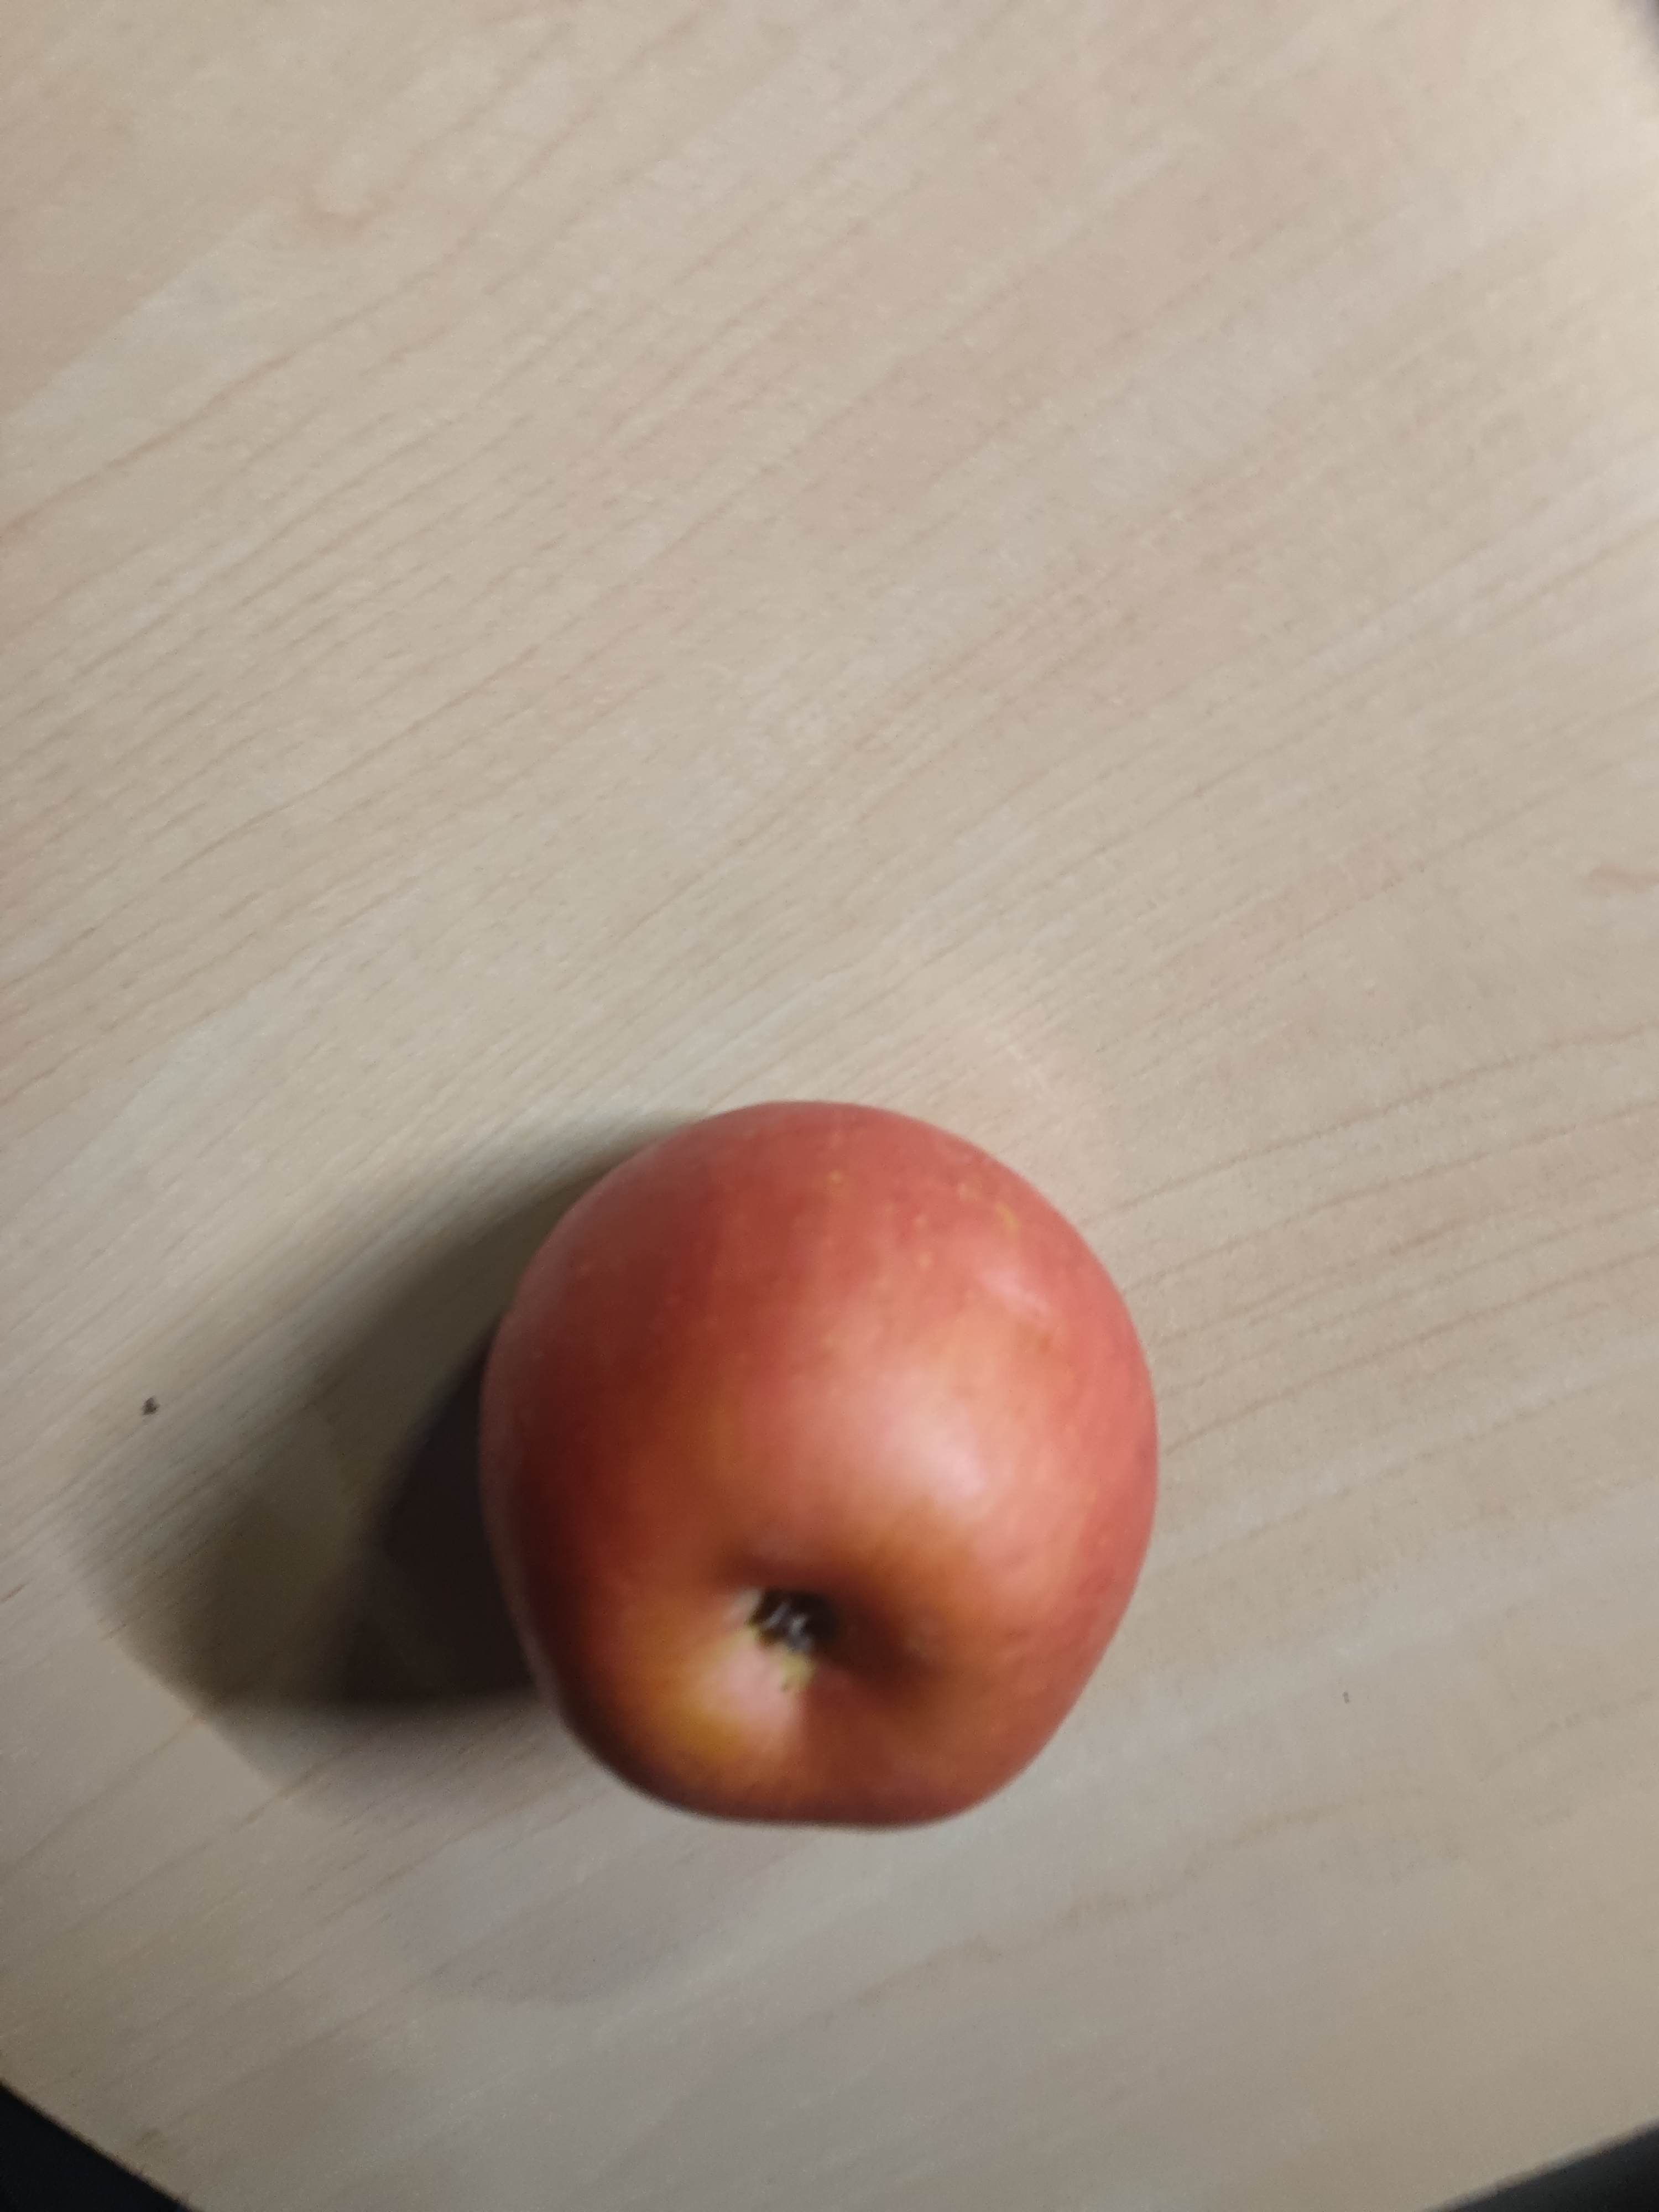apple: (474, 1101, 1175, 1834)
